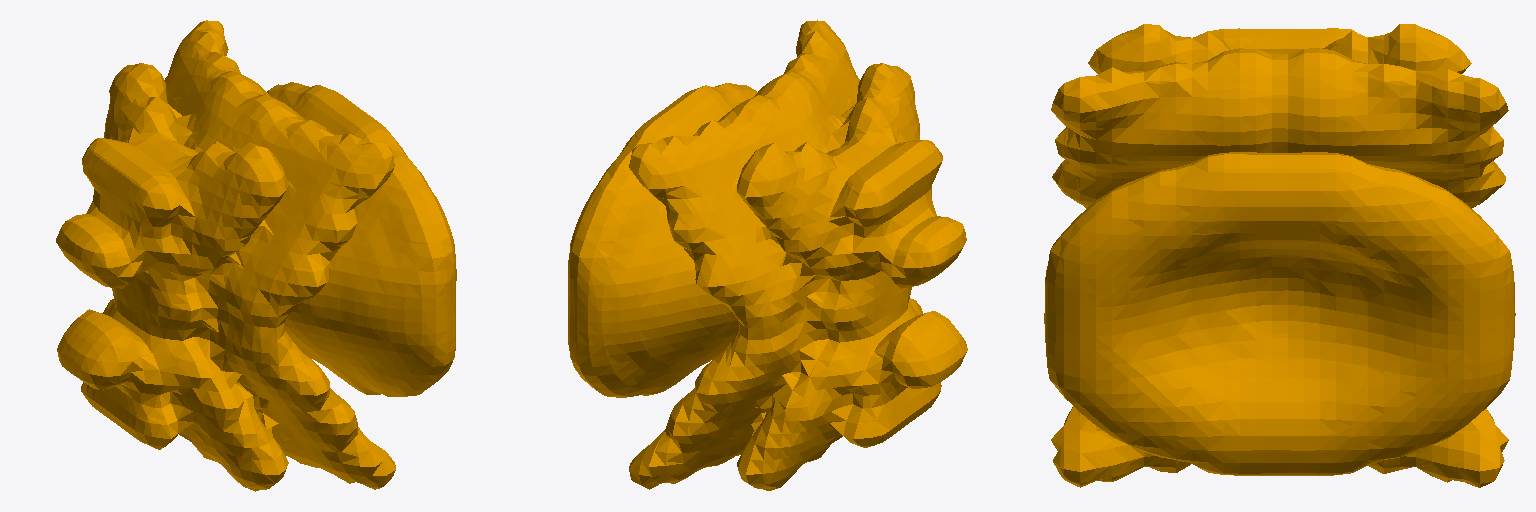
URDF robot description (object):
<?xml version="1.0"?>
        <robot name="object">
          <link name="object">
            <visual>
              <origin xyz="0.0 0.0 0.0"/>
              <geometry>
                <mesh filename="E6.stl" scale="1.00 1.00 1.00"/>
              </geometry>
            </visual>
            <collision>
              <origin xyz="0.0 0.0 0.0"/>
              <geometry>
                <mesh filename="E6.stl" scale="1.00 1.00 1.00"/>
              </geometry>
            </collision>
          </link>
        </robot>

--- Render facts (derived) ---
Views: 3 orthographic renders of the robot side by side, from view 1: azimuth 30°, elevation 25°; view 2: azimuth 150°, elevation 25°; view 3: azimuth 270°, elevation 25°.
Model object with 1 links and 0 joints (none), rooted at object, posed every joint at zero.
Visible links, largest first — view 1: object; view 2: object; view 3: object.
Boxes of the visible links, box(x1,y1,x2,y2) form: object: box(56, 20, 456, 491); object: box(568, 20, 967, 490); object: box(1044, 24, 1515, 487).
Bounding box of the posed robot: 0.0885 × 0.1 × 0.098 m (x, y, z).
1 mesh visuals loaded from 1 distinct referenced files (1 binary STL).